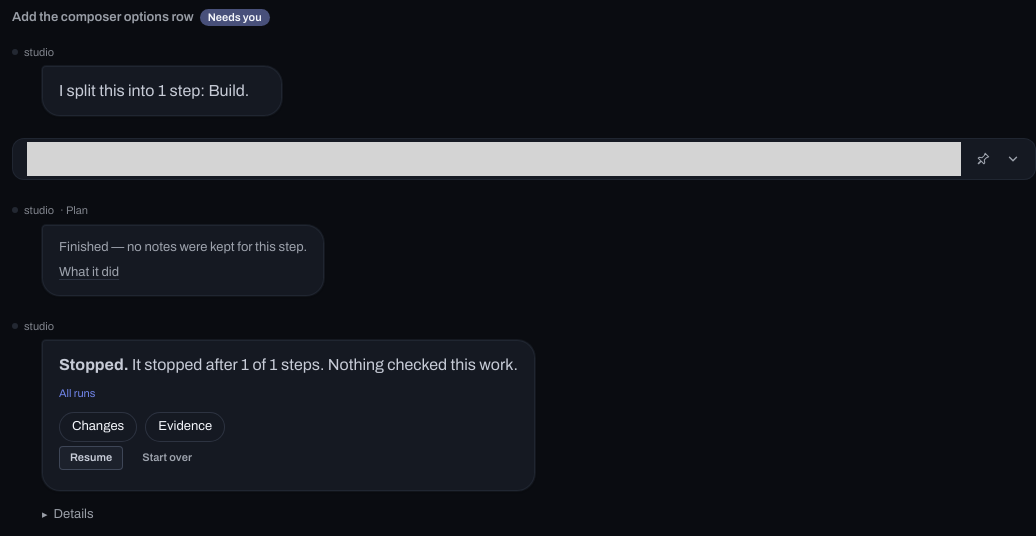
Test case: studio#615 — Resume a failed run in place › a failed run says what to do and Resume makes exactly one POST /resume — no launch form
Expected: the button with test id "session-run-retry" reads "Start over", 131,446 -> 203,470
Step 1. Click the button with test id "session-failed-resume-button" → (91, 458), box 59,446 -> 123,470
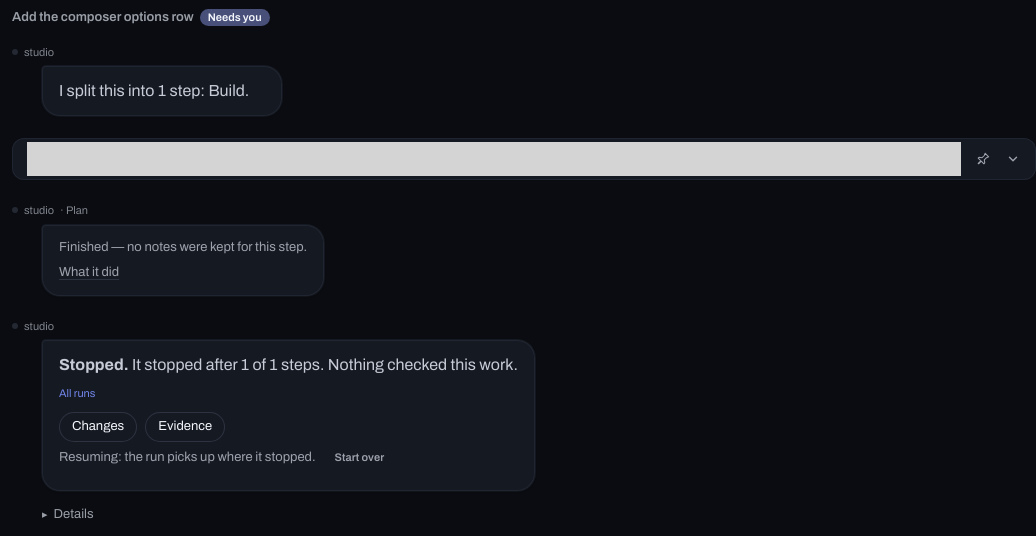
Now the text "Resuming: the run picks up where it stopped." is shown, box 59,448 -> 316,467
